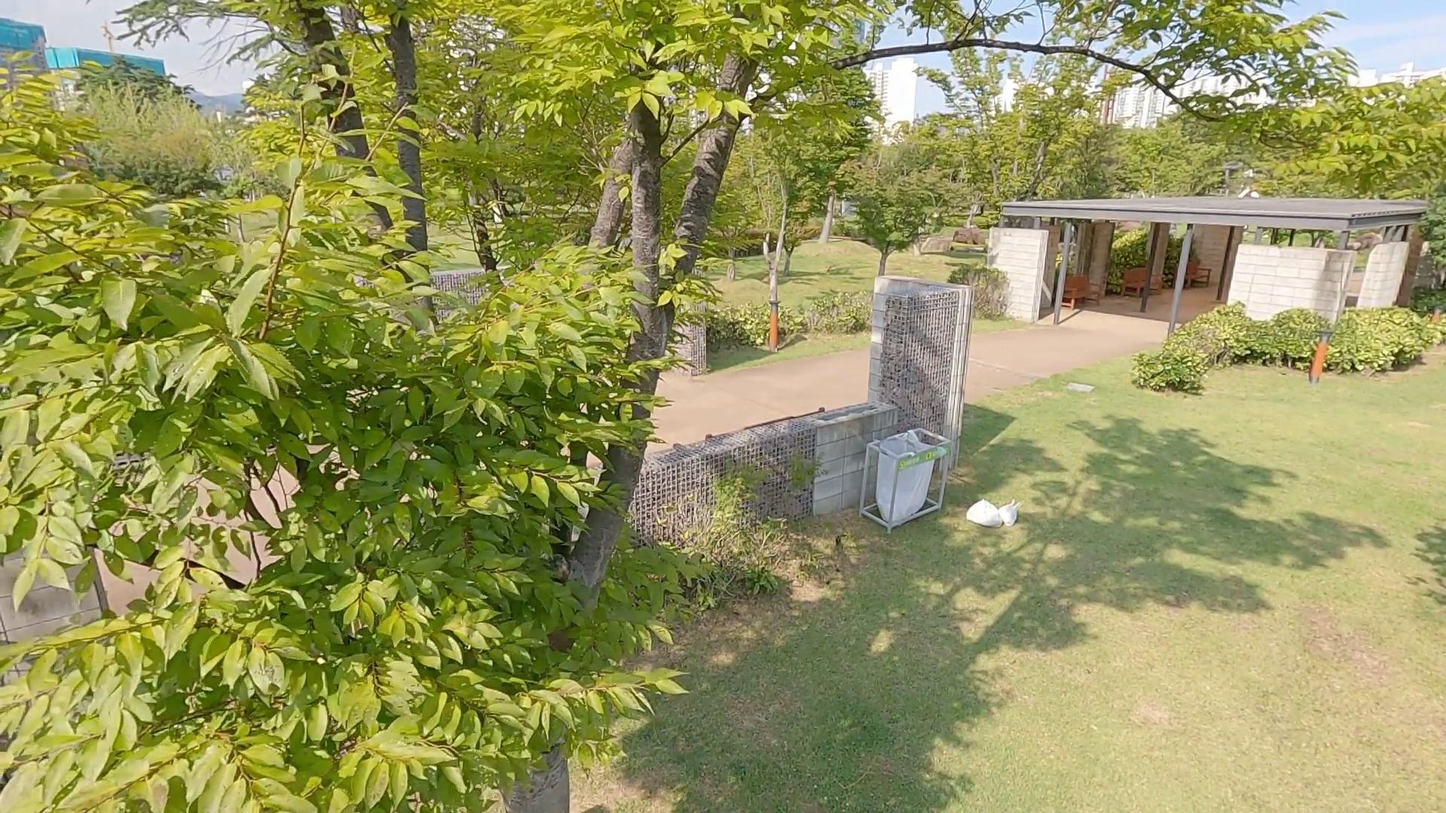trash: (962, 495, 1004, 532), (994, 497, 1025, 530)
